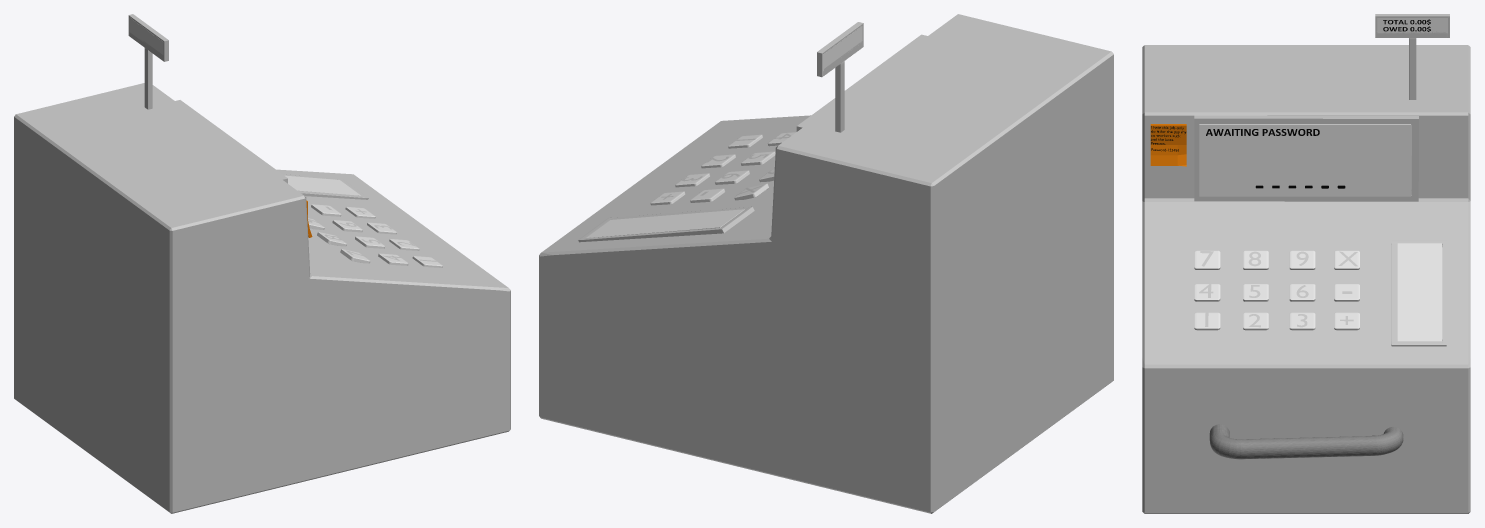
File: register (1).fbx
3 renders of one model, left to right at view 1: azimuth 30°, elevation 25°; view 2: azimuth 150°, elevation 25°; view 3: azimuth 270°, elevation 25°, orthographic. The views are drawn at different scales.
Visible parts, largest first — view 1: Cube, Cube.008, Cube.014, Cube.016, Cube.018; view 2: Cube, Cube.008, Cube.014, Cube.015, Cube.016, Cube.018, Cube.017, Cube.019; view 3: Cube, Cube.021, Cube.008, Cube.014, Cylinder, Cube.016, Cube.015, Cube.020, Cube.019, Cube.018, Text.016, Cube.017.
Part boxes in pixels (box(x1,y1,x2,y2)): Cube: box(14, 83, 510, 513); Cube.008: box(308, 204, 442, 267); Cube.014: box(285, 175, 360, 195); Cube.016: box(175, 100, 287, 183); Cube.018: box(128, 14, 168, 61); Cube: box(539, 14, 1113, 513); Cube.008: box(650, 132, 796, 205); Cube.014: box(586, 209, 744, 237); Cube.015: box(578, 206, 754, 242); Cube.016: box(796, 34, 927, 131); Cube.018: box(817, 22, 863, 77); Cube.017: box(835, 61, 844, 132); Cube.019: box(823, 26, 862, 70); Cube: box(1142, 45, 1470, 513); Cube.021: box(1199, 124, 1410, 196); Cube.008: box(1194, 250, 1359, 330); Cube.014: box(1397, 243, 1442, 341); Cylinder: box(1209, 424, 1403, 459); Cube.016: box(1194, 115, 1418, 201); Cube.015: box(1391, 240, 1446, 346); Cube.020: box(1150, 124, 1186, 166); Cube.019: box(1377, 18, 1447, 33); Cube.018: box(1375, 14, 1449, 37); Text.016: box(1206, 129, 1319, 135); Cube.017: box(1409, 38, 1416, 99).
Bounding box in the file's own units: 1091 × 1001 × 781.
